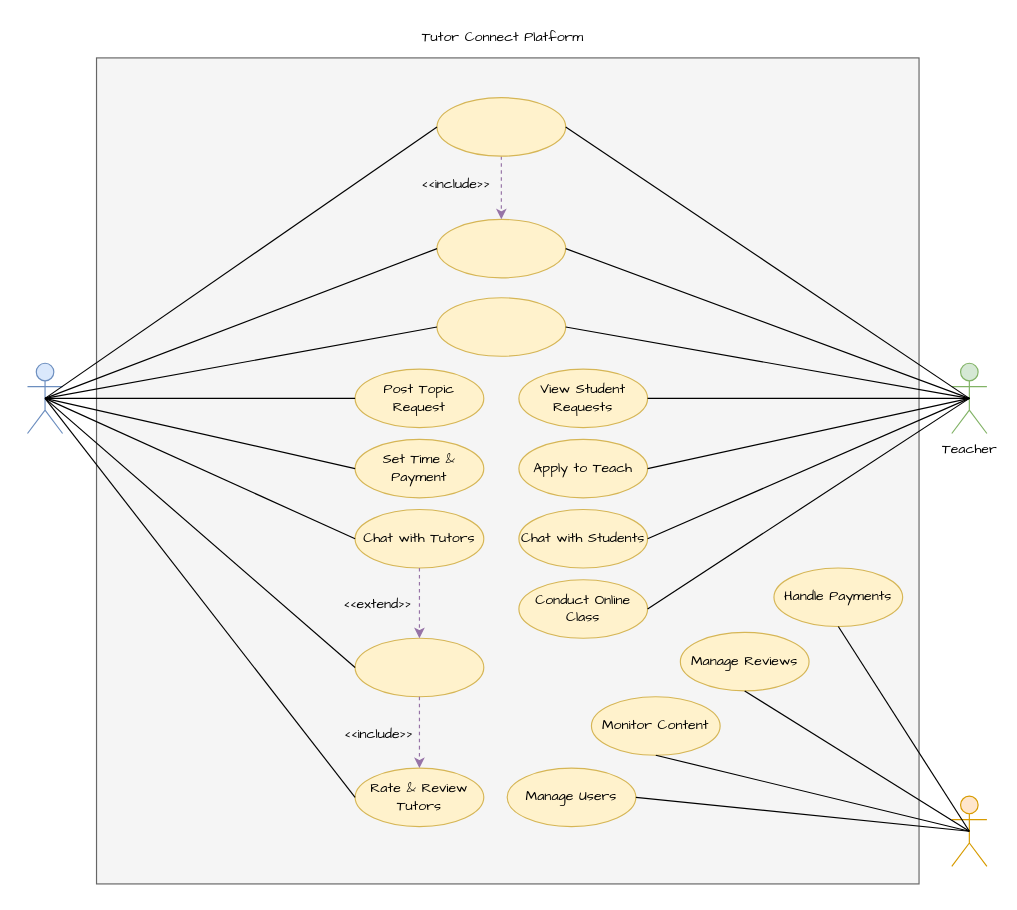
This 1017x910 diagram has some shape labels left out. Each missing label, with the box of its shape:
Admin: (951, 795, 987, 866)
Create Account: (436, 97, 566, 156)
Join Online Class: (354, 637, 484, 697)
Login: (436, 218, 566, 278)
Student: (26, 362, 63, 433)
Update Profile: (436, 297, 566, 356)
